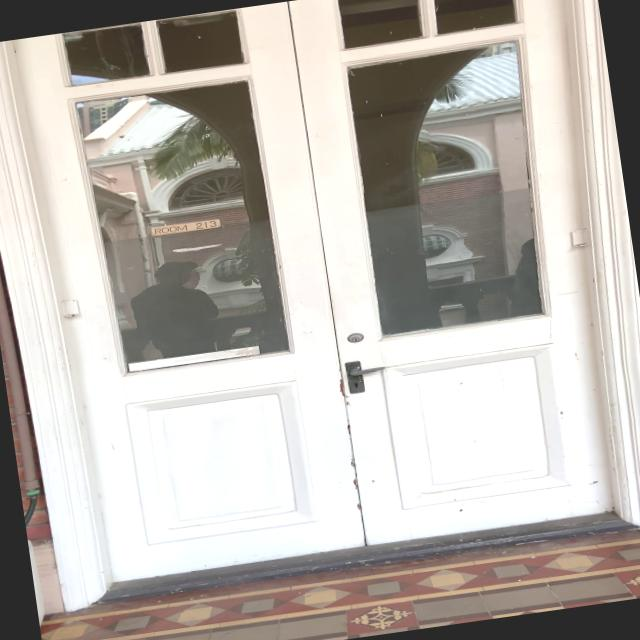room213Window: (140, 213, 228, 240)
